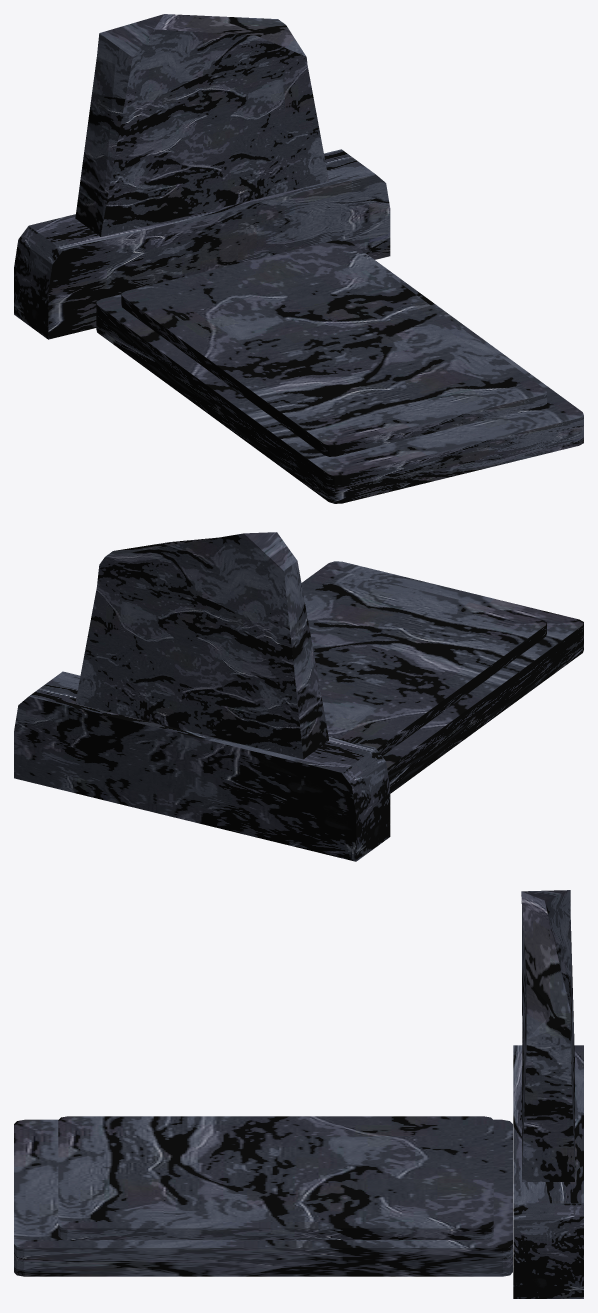
File: Grave_New.fbx
3 renders of one model, top to bottom at view 1: azimuth 30°, elevation 25°; view 2: azimuth 150°, elevation 25°; view 3: azimuth 270°, elevation 25°, orthographic. The views are drawn at different scales.
Parts seen in each view (by area): view 1: Cube.003, Cube.002, Cube, Cube.004; view 2: Cube.002, Cube, Cube.003, Cube.004; view 3: Cube.003, Cube.004, Cube.002, Cube.
Part boxes in pixels (x1,y1,x2,y2): Cube.003: [121, 240, 546, 456]; Cube.002: [75, 14, 328, 236]; Cube: [14, 149, 390, 339]; Cube.004: [96, 241, 583, 503]; Cube.002: [75, 532, 328, 759]; Cube: [14, 671, 390, 861]; Cube.003: [302, 569, 546, 756]; Cube.004: [301, 561, 583, 793]; Cube.003: [58, 1116, 493, 1239]; Cube.004: [14, 1119, 512, 1276]; Cube.002: [521, 890, 574, 1181]; Cube: [513, 1045, 583, 1298].
Bounding box in the file's own units: 116 × 91.26 × 161.
Materials: 1 (1 with a texture image).
